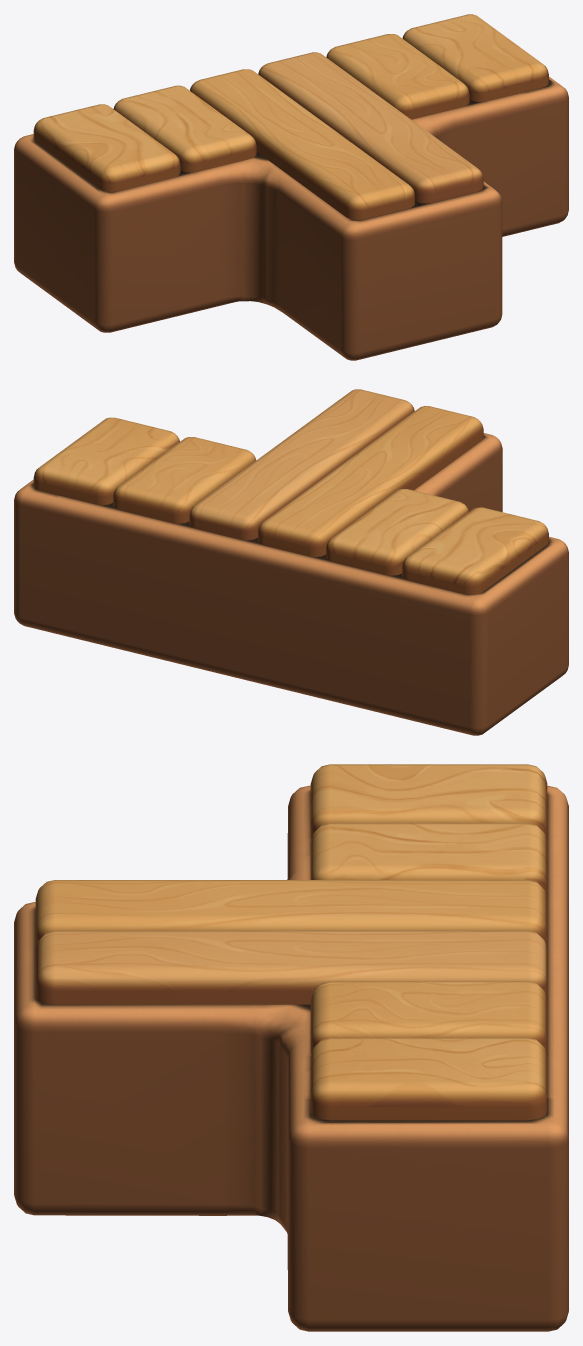
Rendered from WoodenBox_T_3x2.fbx.
The picture shows the model from 3 angles, top to bottom: view 1: azimuth 30°, elevation 25°; view 2: azimuth 150°, elevation 25°; view 3: azimuth 270°, elevation 25°; orthographic projection. The views are drawn at different scales.
Parts seen in each view (by area): view 1: box_T_3x2; view 2: box_T_3x2; view 3: box_T_3x2.
Part boxes in pixels (box(x1,y1,x2,y2)): box_T_3x2: box(14, 14, 568, 360); box_T_3x2: box(14, 389, 568, 735); box_T_3x2: box(14, 764, 568, 1331).
Bounding box in the file's own units: 3.02 × 0.9612 × 2.02.
